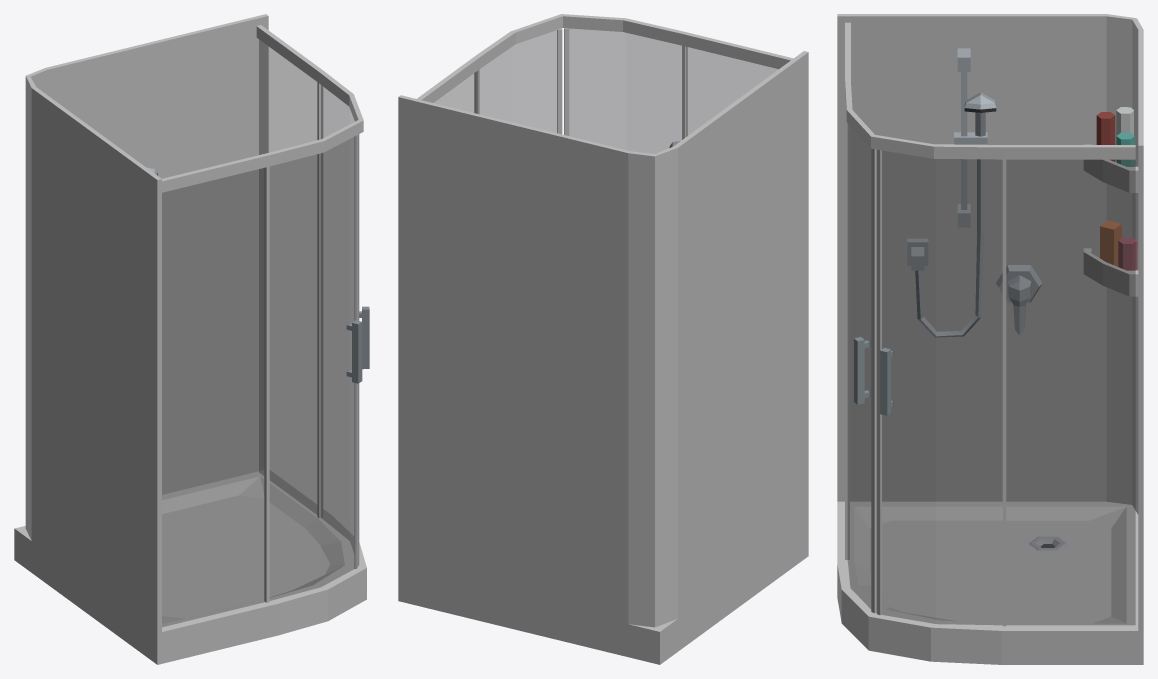
File: SM_Prop_Shower_02.fbx
3 views of the same model, side by side, from view 1: azimuth 30°, elevation 25°; view 2: azimuth 150°, elevation 25°; view 3: azimuth 270°, elevation 25° (orthographic). The views are drawn at different scales.
Visible parts, largest first — view 1: SM_Prop_Shower_02, SM_Prop_Shower_02_Glass; view 2: SM_Prop_Shower_02, SM_Prop_Shower_02_Glass; view 3: SM_Prop_Shower_02, SM_Prop_Shower_02_Glass.
Part boxes in pixels (box(x1,y1,x2,y2)): SM_Prop_Shower_02: box(14, 14, 369, 664); SM_Prop_Shower_02_Glass: box(162, 40, 354, 626); SM_Prop_Shower_02: box(398, 14, 808, 664); SM_Prop_Shower_02_Glass: box(434, 29, 778, 153); SM_Prop_Shower_02: box(837, 14, 1143, 664); SM_Prop_Shower_02_Glass: box(848, 124, 1135, 624).
Bounding box in the file's own units: 129 × 237 × 127.
